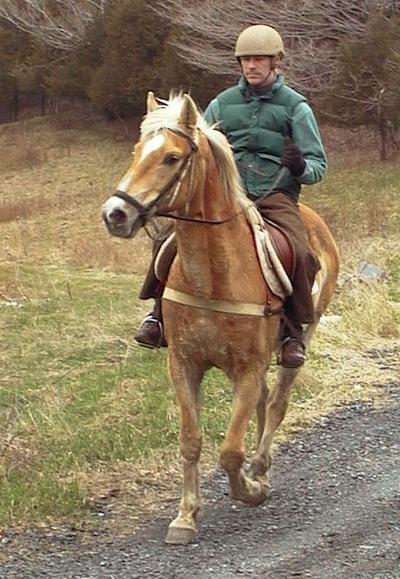person: (133, 22, 329, 372)
